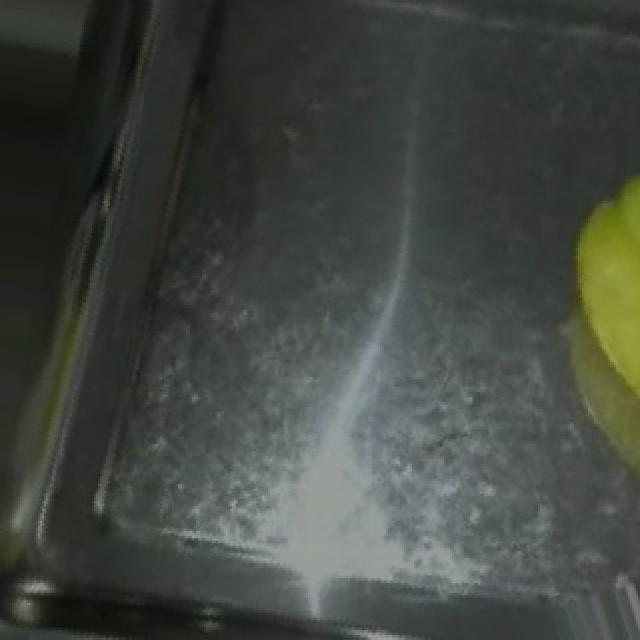fruit: (542, 146, 640, 469)
